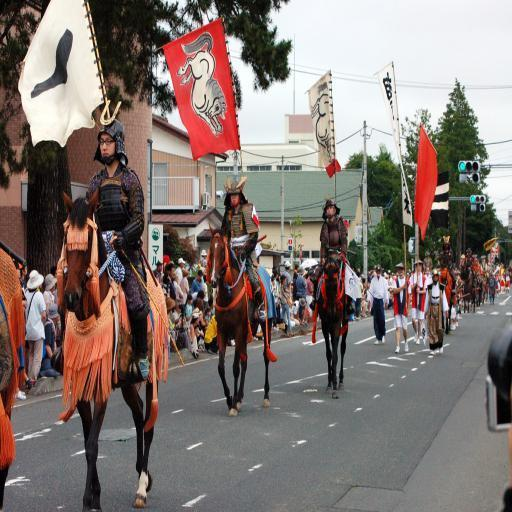horse: (60, 188, 160, 512), (207, 219, 272, 415), (0, 248, 26, 512), (314, 257, 352, 399)
